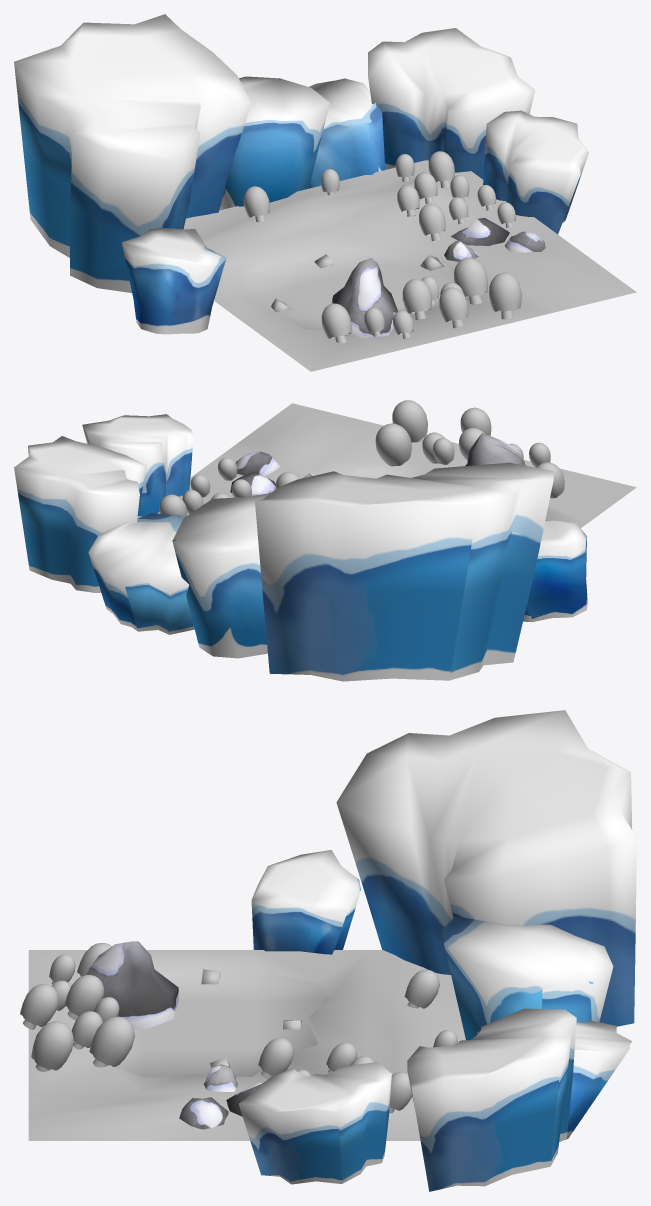
Rendered from Map_1_C_5.FBX.
3 views of the same model, one above another, from view 1: azimuth 30°, elevation 25°; view 2: azimuth 150°, elevation 25°; view 3: azimuth 270°, elevation 25° (orthographic). The views are drawn at different scales.
Parts seen in each view (by area): view 1: Iceberg018, tereno2, Iceberg011, Iceberg009, Iceberg016, Iceberg014, Iceberg017, Stone002, Icethree043, Icethree047, Stone02, Icethree046 (+8 smaller); view 2: Iceberg018, Iceberg011, tereno2, Iceberg009, Iceberg017, Iceberg016, Iceberg014, Stone002, Icethree047, Icethree043, Stone03, Icethree042 (+6 smaller); view 3: Iceberg018, tereno2, Iceberg011, Iceberg016, Iceberg009, Iceberg014, Stone002, Iceberg017, Icethree047, Icethree043, Icethree042, Icethree046 (+6 smaller).
Part boxes in pixels (left/top/right/bottom): Iceberg018: left=14, top=14, right=251, bottom=292; tereno2: left=183, top=160, right=636, bottom=371; Iceberg011: left=368, top=28, right=535, bottom=179; Iceberg009: left=219, top=76, right=329, bottom=210; Iceberg016: left=483, top=110, right=588, bottom=234; Iceberg014: left=121, top=227, right=226, bottom=334; Iceberg017: left=309, top=78, right=385, bottom=188; Stone002: left=331, top=257, right=397, bottom=338; Icethree043: left=489, top=272, right=521, bottom=319; Icethree047: left=454, top=257, right=487, bottom=304; Stone02: left=451, top=217, right=509, bottom=245; Icethree046: left=402, top=279, right=431, bottom=320; Iceberg018: left=255, top=462, right=553, bottom=681; Iceberg011: left=14, top=436, right=146, bottom=592; tereno2: left=137, top=403, right=636, bottom=527; Iceberg009: left=172, top=493, right=270, bottom=658; Iceberg017: left=88, top=513, right=194, bottom=634; Iceberg016: left=82, top=414, right=193, bottom=516; Iceberg014: left=523, top=520, right=587, bottom=622; Stone002: left=465, top=433, right=525, bottom=465; Icethree047: left=375, top=423, right=411, bottom=466; Icethree043: left=392, top=400, right=427, bottom=442; Stone03: left=235, top=451, right=280, bottom=475; Icethree042: left=460, top=407, right=491, bottom=435; Iceberg018: left=336, top=710, right=636, bottom=1026; tereno2: left=28, top=950, right=465, bottom=1140; Iceberg011: left=407, top=1008, right=576, bottom=1191; Iceberg016: left=238, top=1062, right=391, bottom=1184; Iceberg009: left=441, top=916, right=613, bottom=1040; Iceberg014: left=251, top=850, right=360, bottom=954; Stone002: left=86, top=941, right=178, bottom=1029; Iceberg017: left=477, top=1020, right=632, bottom=1139; Icethree047: left=89, top=1016, right=134, bottom=1067; Icethree043: left=31, top=1021, right=73, bottom=1071; Icethree042: left=20, top=984, right=58, bottom=1029; Icethree046: left=65, top=975, right=104, bottom=1020.
Bounding box in the file's own units: 729 × 296 × 690.
